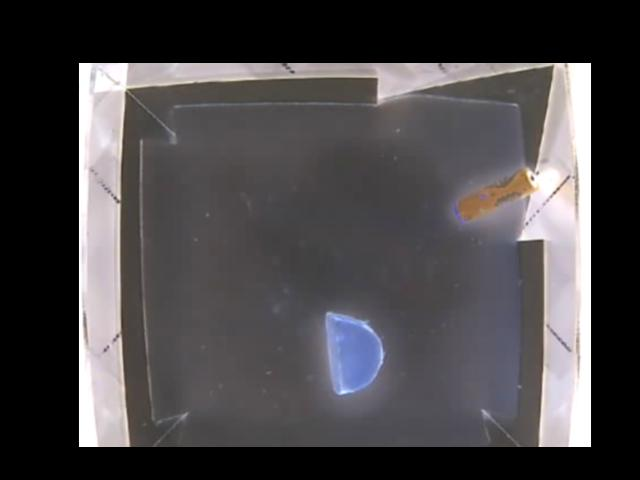Battery: (450, 166, 537, 223)
Potato: (322, 311, 386, 391)
